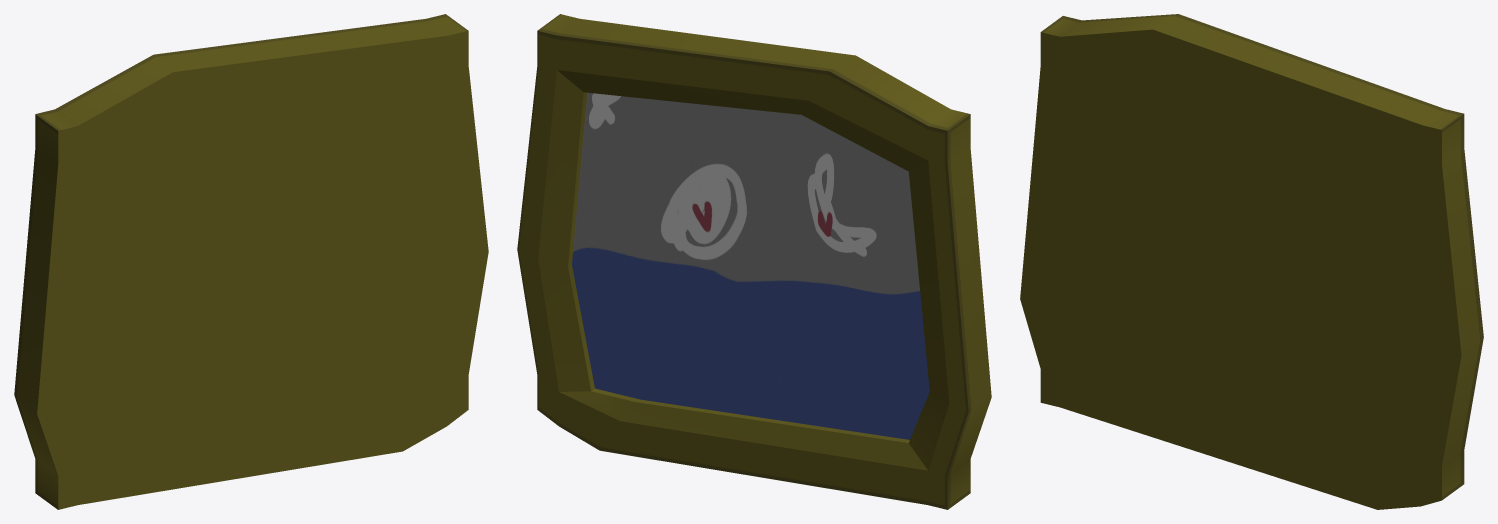
File: BgMD_painting_frame03 (2).fbx
The picture shows the model from 3 angles, left to right: view 1: azimuth 30°, elevation 25°; view 2: azimuth 150°, elevation 25°; view 3: azimuth 330°, elevation 25°; orthographic projection. The views are drawn at different scales.
Parts seen in each view (by area): view 1: Bg_painting_frame03; view 2: Bg_painting_frame03; view 3: Bg_painting_frame03.
Boxes of the visible parts, left/top/right/bottom form: Bg_painting_frame03: left=14, top=14, right=488, bottom=509; Bg_painting_frame03: left=517, top=14, right=991, bottom=509; Bg_painting_frame03: left=1020, top=14, right=1483, bottom=509.
Size of the model in its own units: 175 by 161 by 15.31.
1 material, 1 textured.
